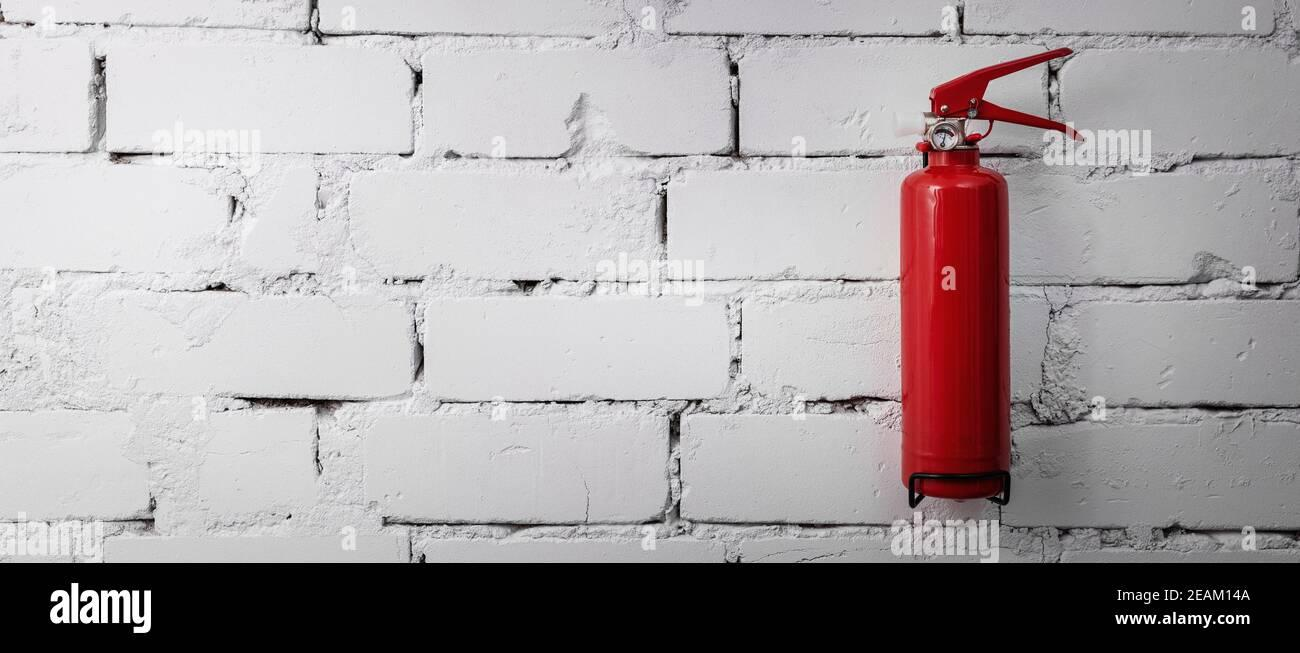wall-mounted: (830, 47, 1094, 502)
